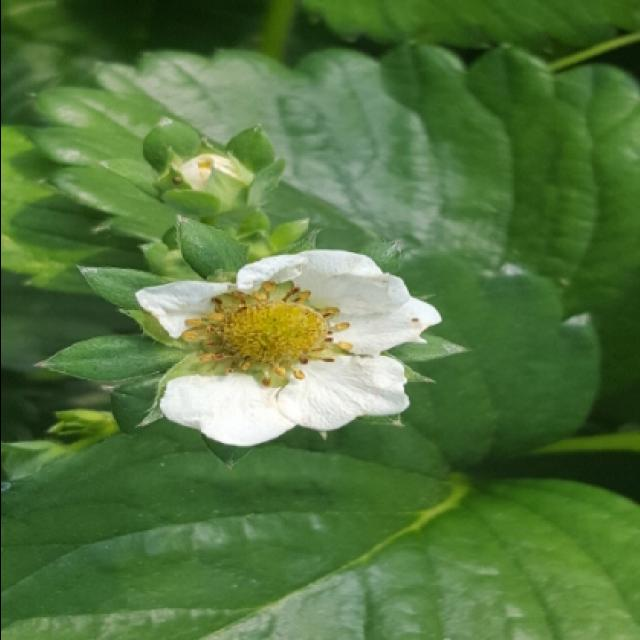Blossom Blight: (177, 277, 354, 392)
